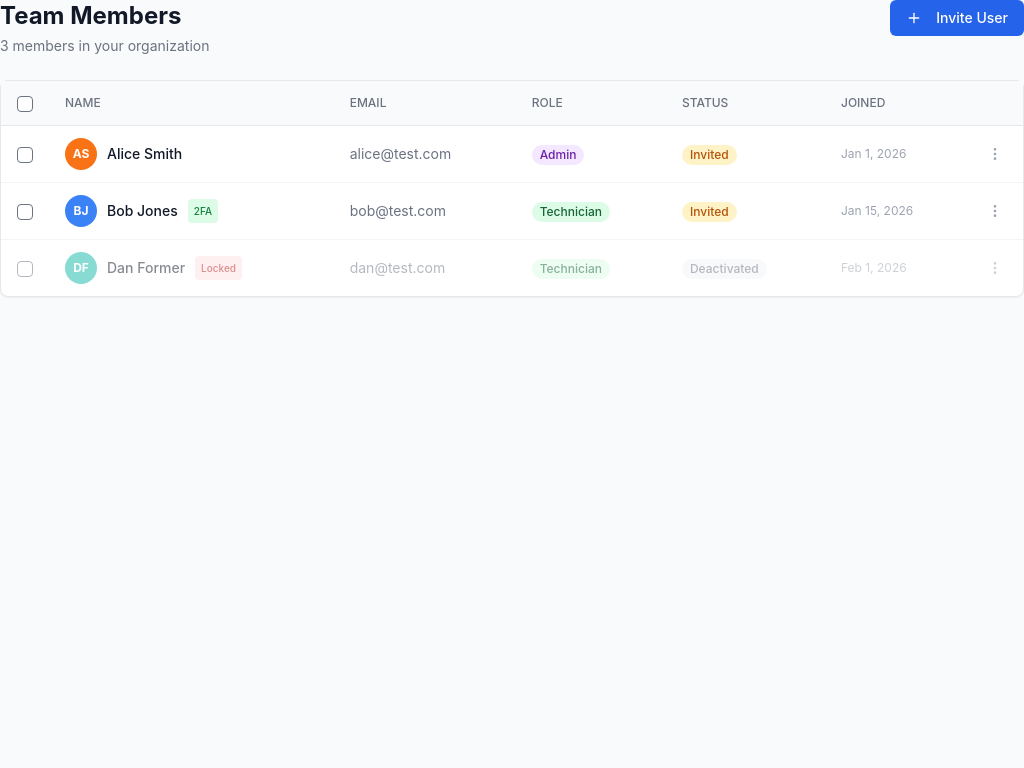
UsersPage › managing people › offers Reset Password for another active person and shows the link it creates
This screenshot has width=1024, height=768.
Click the button without text in the row of "BJ" at (995, 210), box [983, 198, 1007, 222]
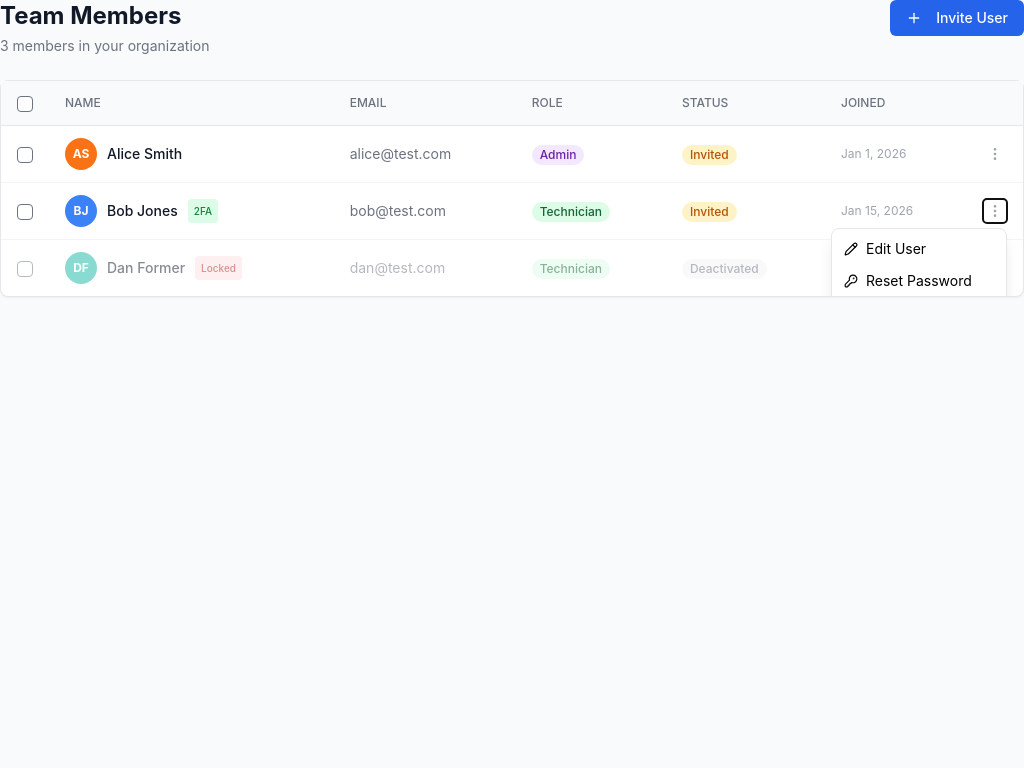
Click the button "Reset Password" at (919, 280), box [832, 264, 1006, 296]
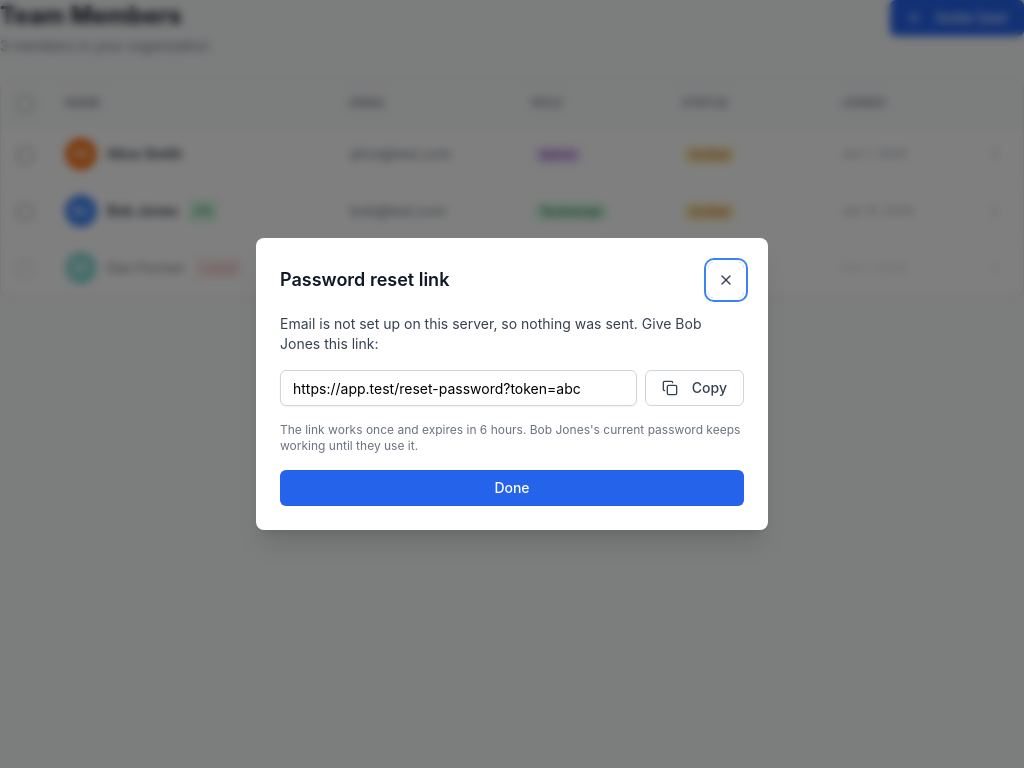
Expected: the field named "Reset link" holds "https://app.test/reset-password?token=abc", [280, 370, 637, 406]
Expected: the text "Email is not set up on this server" is shown, [280, 315, 702, 352]
